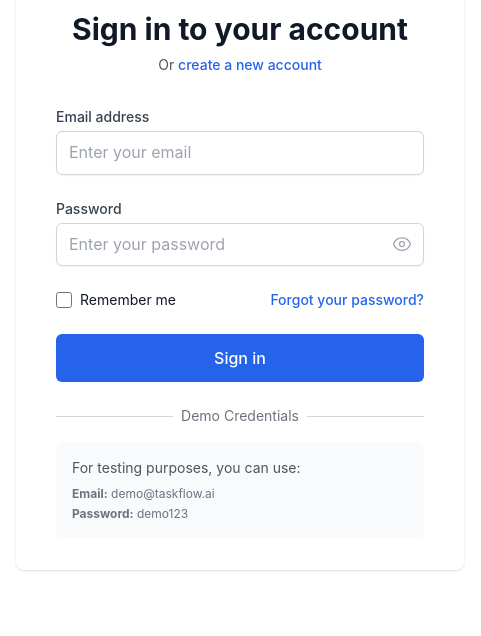
Test: LoginForm Component › validates email and password fields
Step 1. Click the button "Sign in" → (240, 358), box [56,334,424,382]
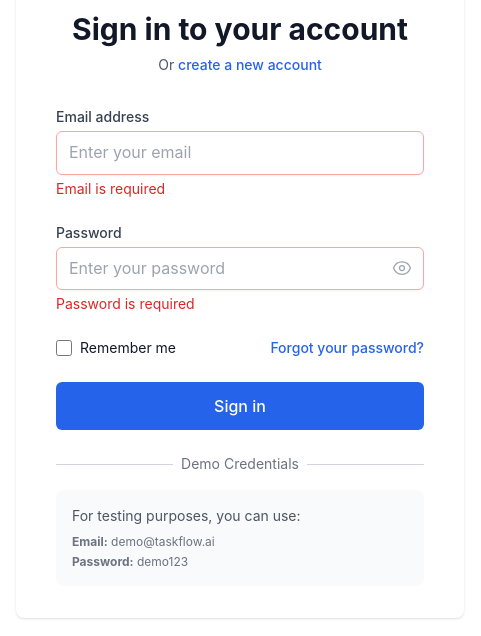
Now the text "Email is required" is shown, box [56,180,165,197]
Now the text "Password is required" is shown, box [56,295,195,312]
